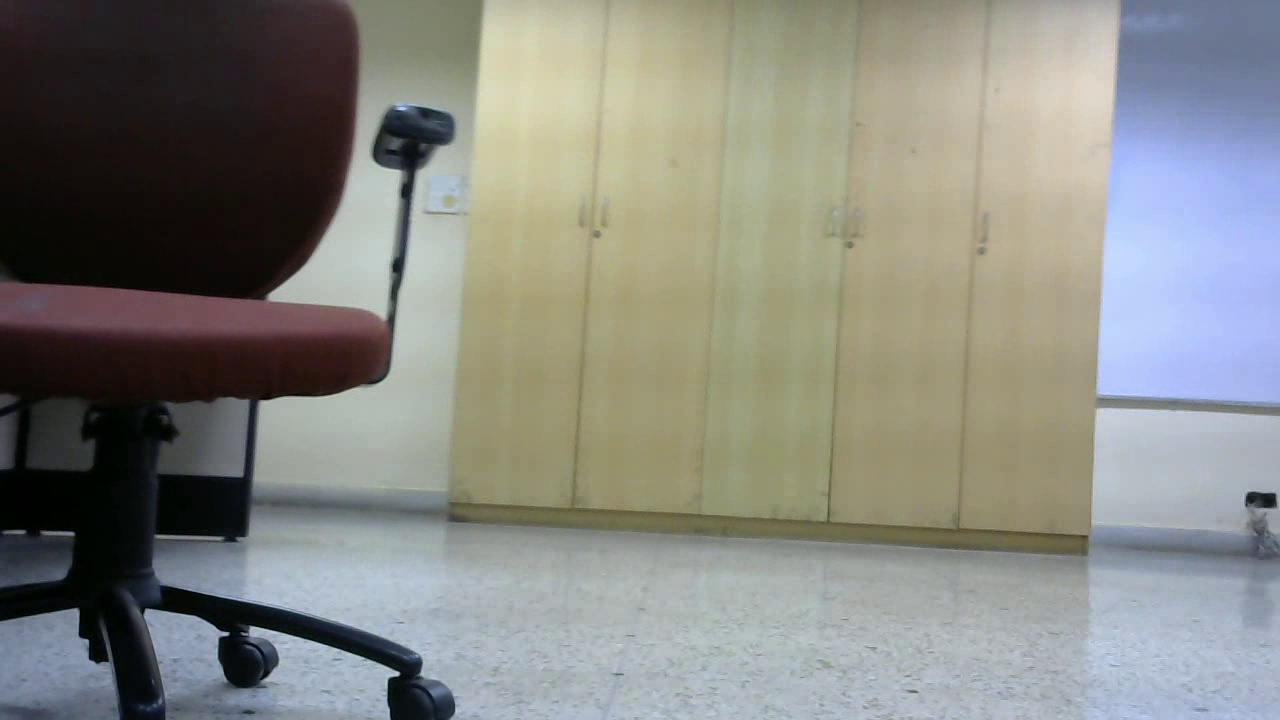chair: (724, 205, 1028, 605), (329, 181, 520, 548)
